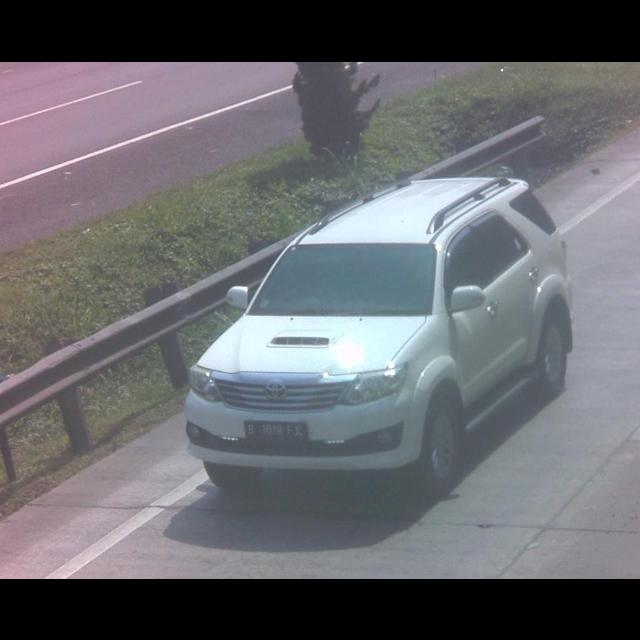plate: (240, 416, 310, 444)
